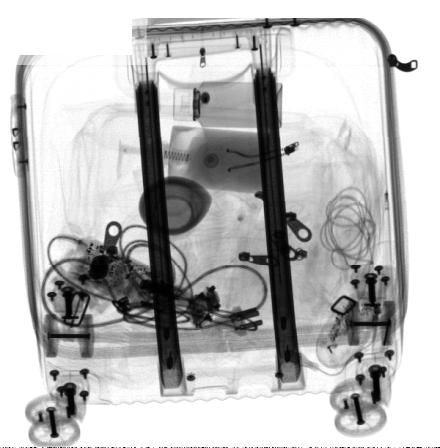Sprayer: (172, 82, 282, 128)
